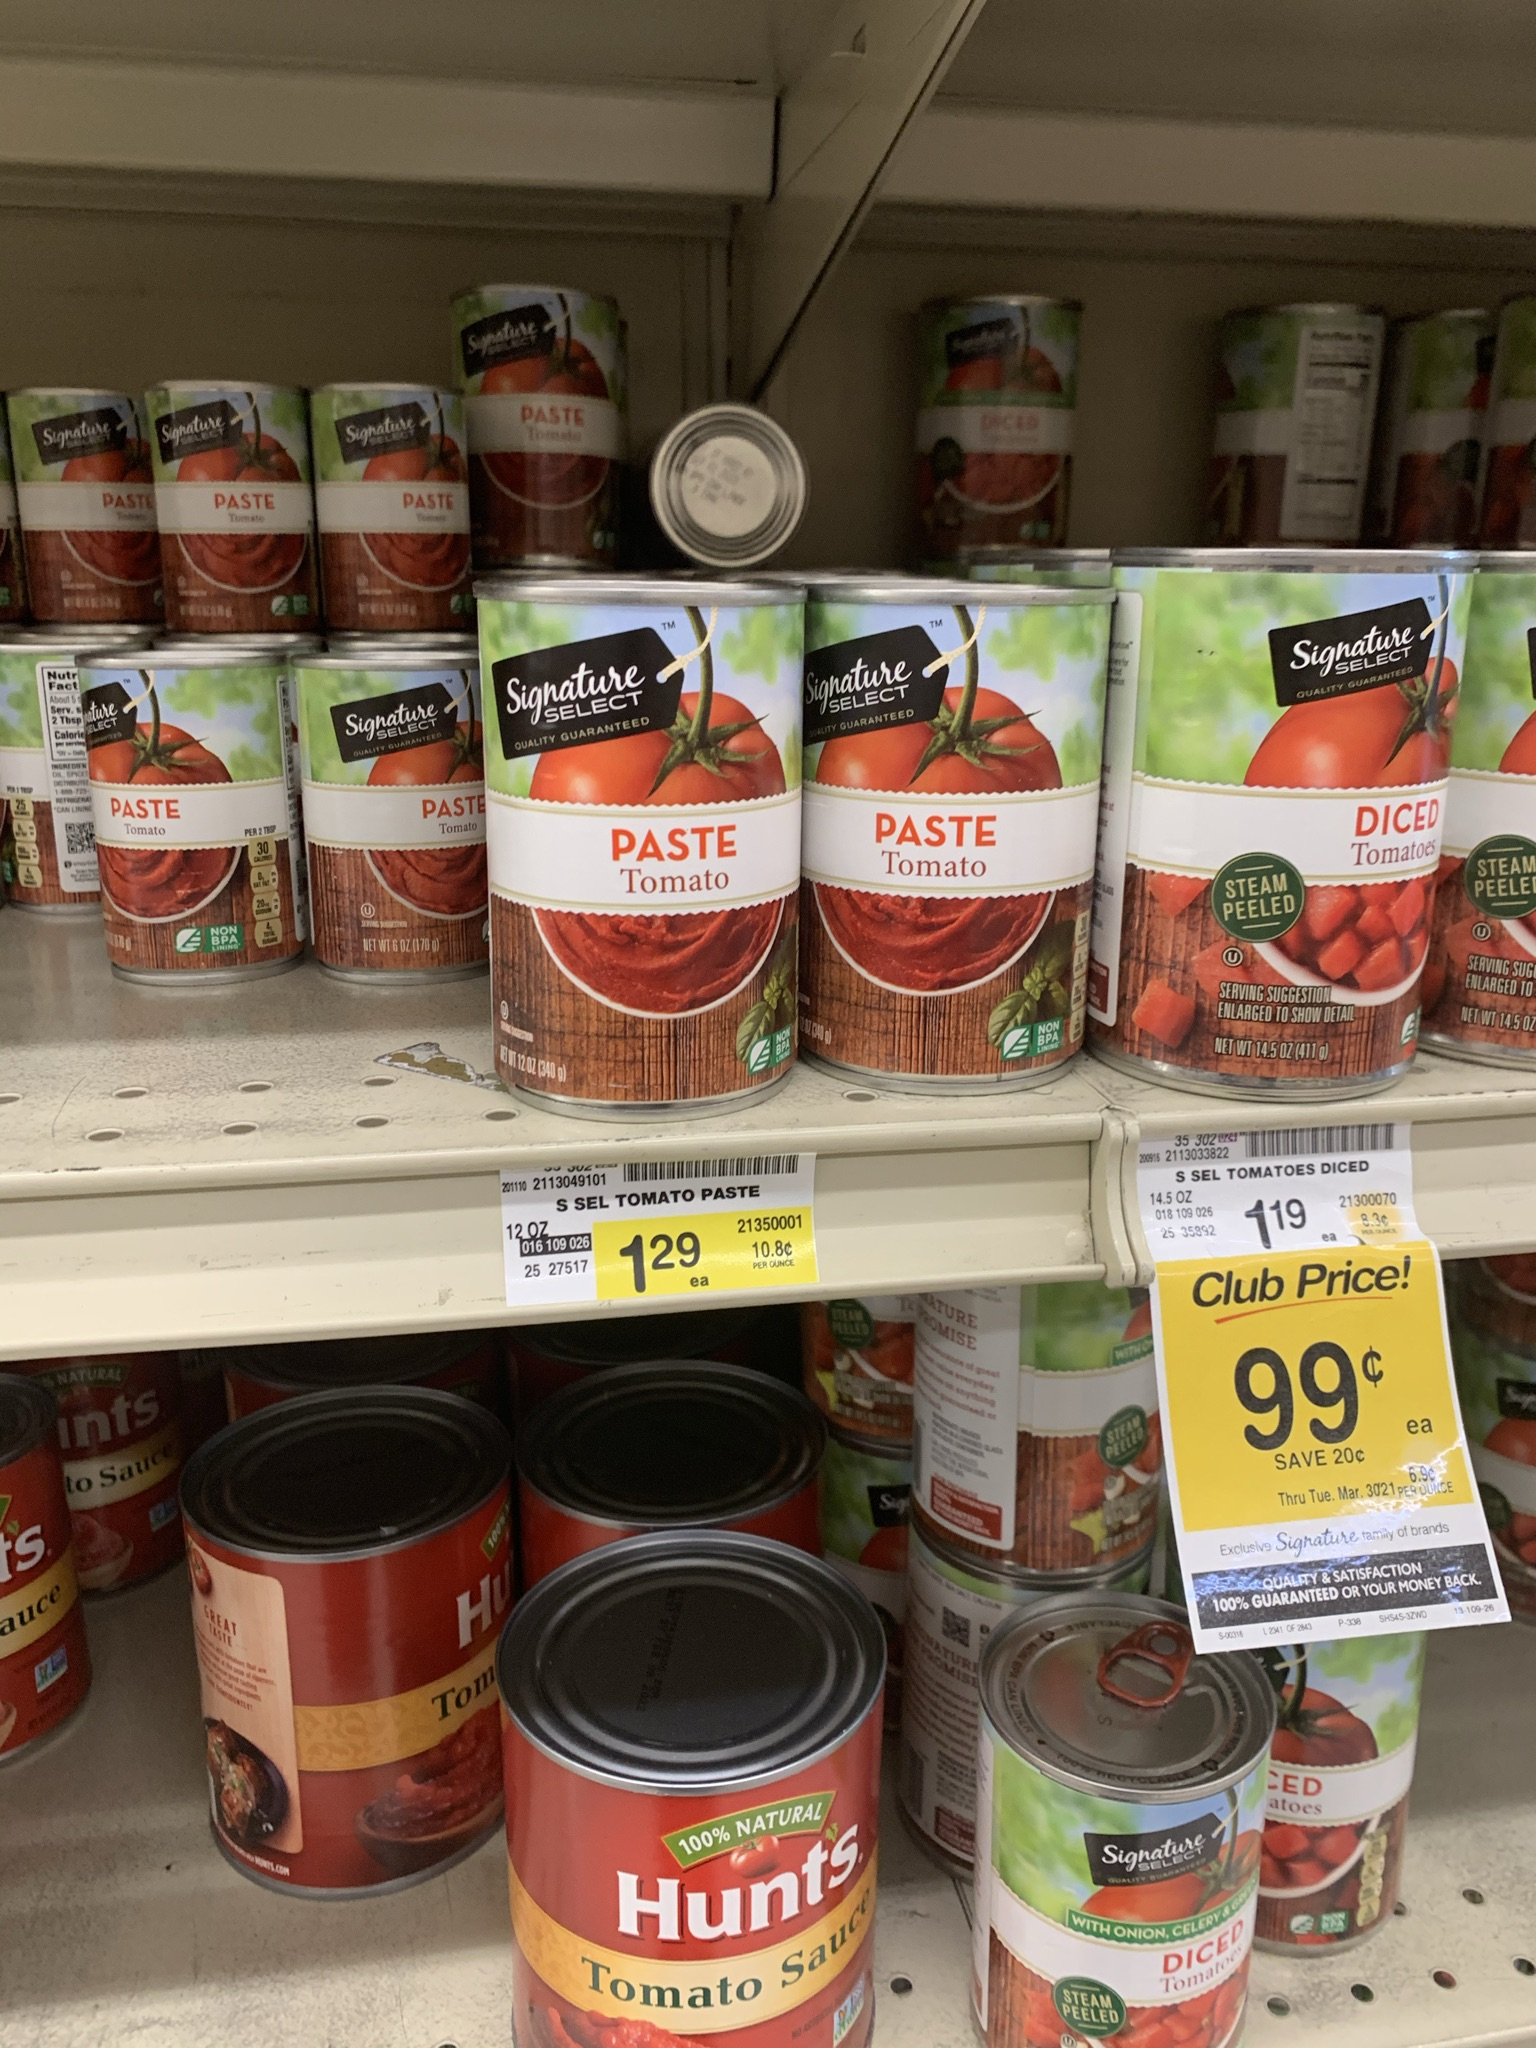can: (544, 1609, 865, 2048), (499, 601, 783, 1087), (1133, 572, 1420, 1051), (816, 608, 1086, 1066), (202, 1451, 499, 1838), (1007, 1653, 1239, 2048), (98, 666, 284, 972), (303, 668, 482, 974), (466, 302, 618, 561), (168, 398, 305, 627), (319, 402, 460, 619), (1225, 318, 1367, 531), (937, 313, 1066, 542), (16, 393, 148, 606)
